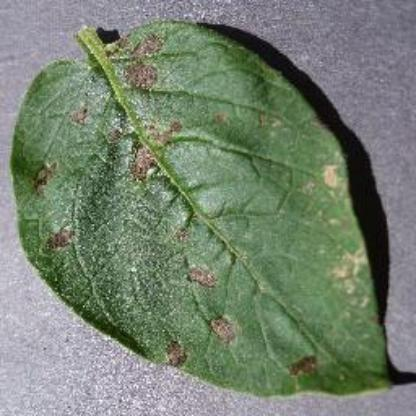Early-Blight: (12, 20, 398, 400)
